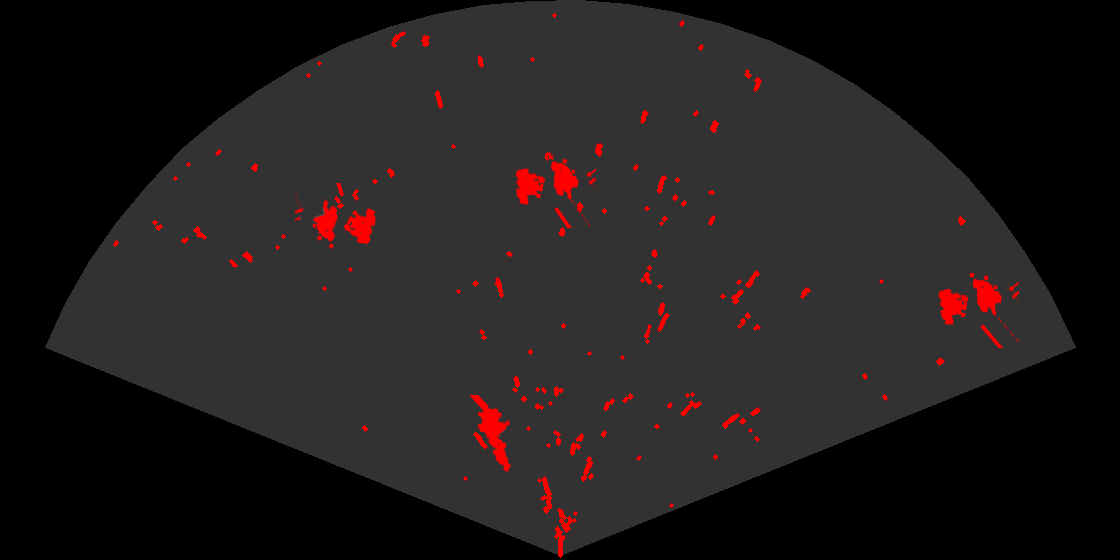cage: (937, 271, 1019, 348), (514, 153, 596, 228), (295, 183, 378, 250)
frogman: (468, 395, 512, 473)
